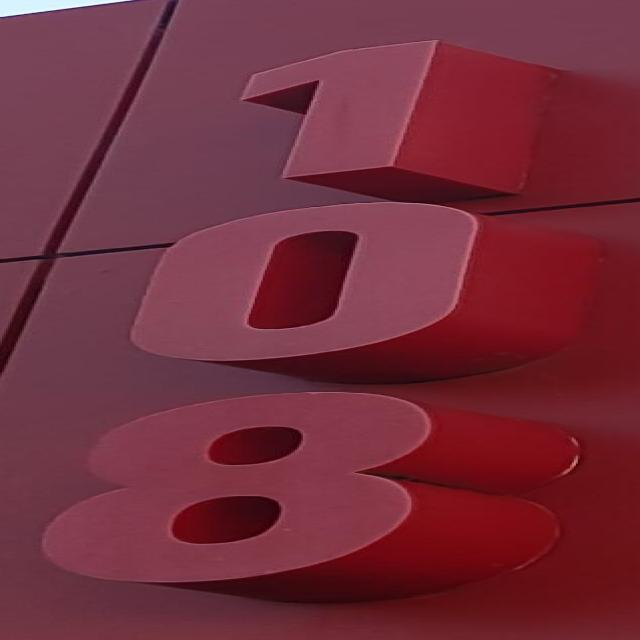character: (12, 388, 465, 588), (100, 196, 506, 368), (192, 33, 470, 183)
